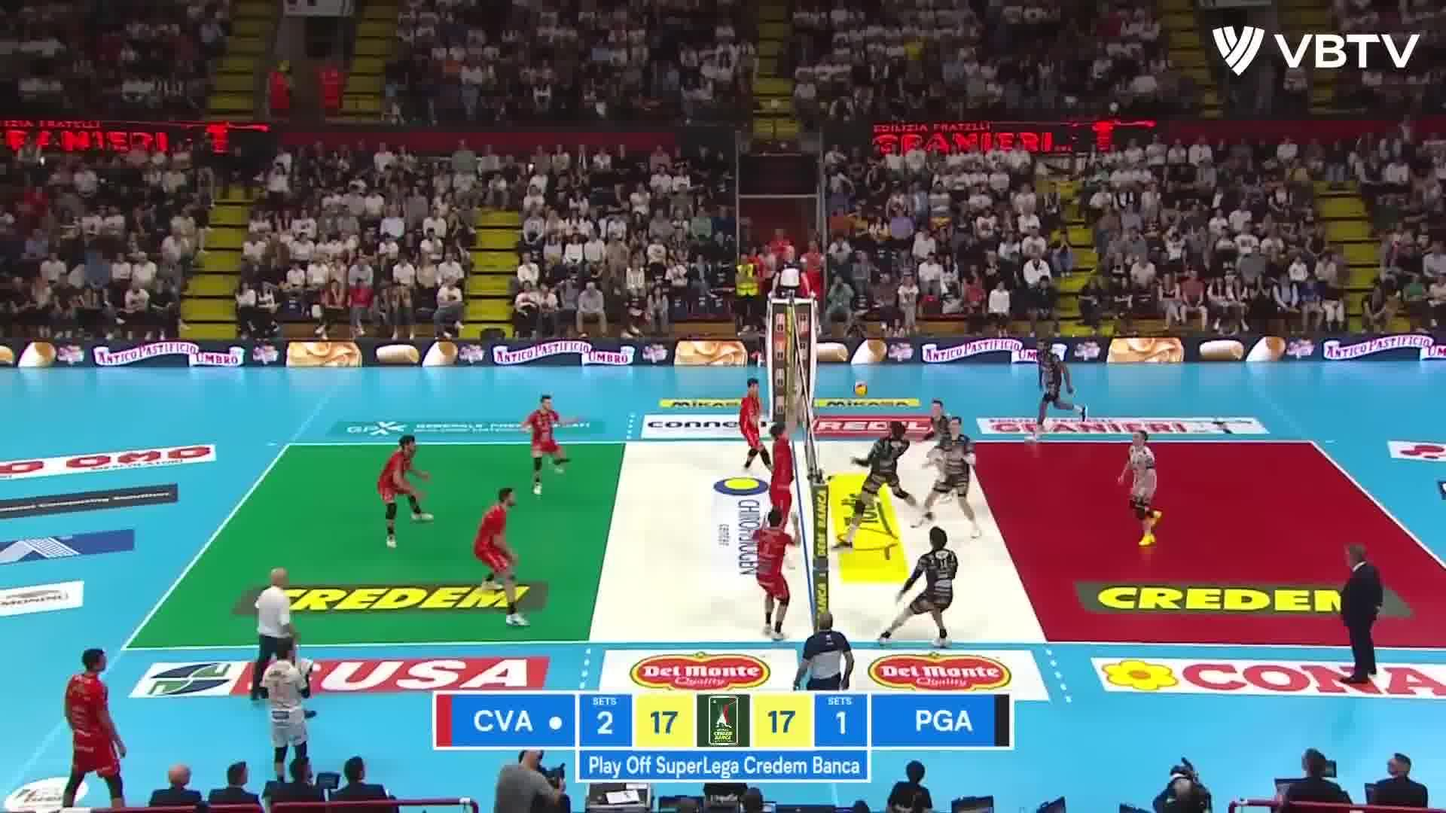balls: (849, 379, 871, 397)
